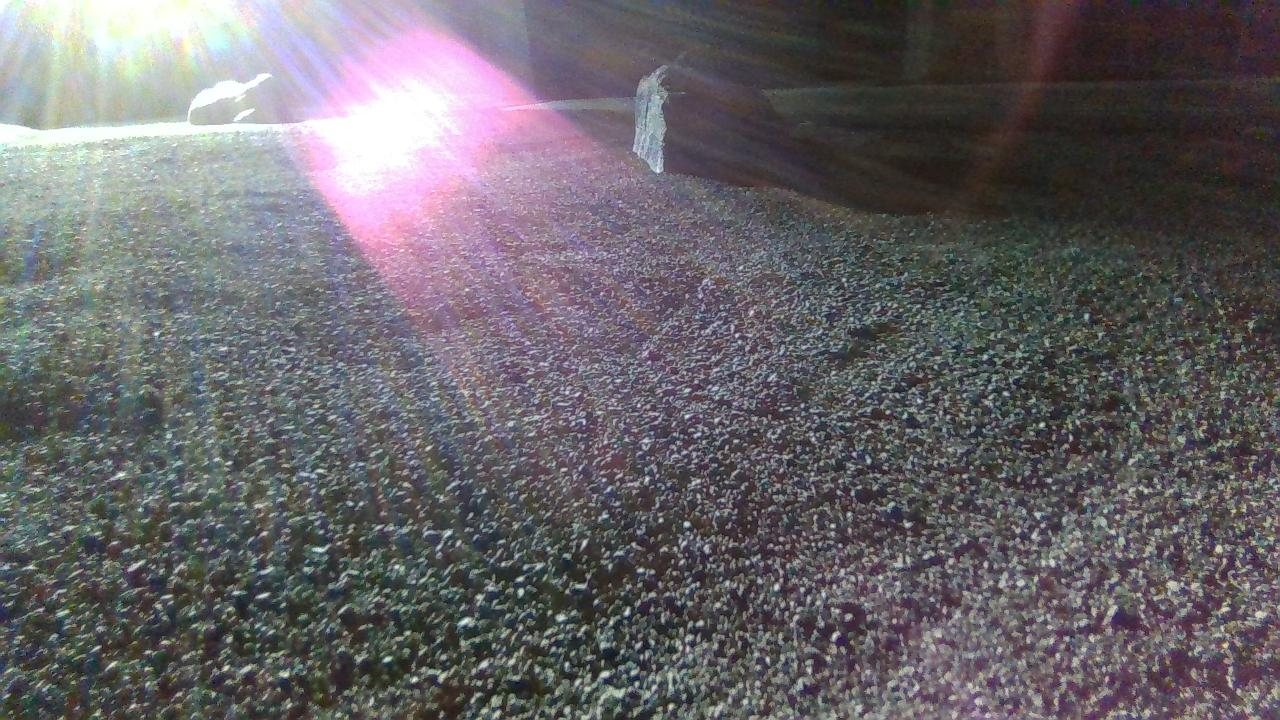rock: (634, 50, 784, 171), (185, 76, 303, 121)
